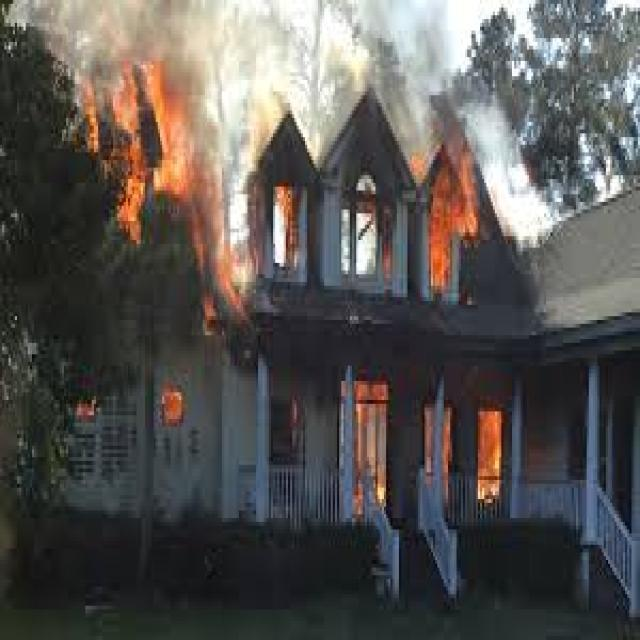Fire: (82, 56, 188, 248), (404, 146, 480, 296), (260, 119, 312, 254), (338, 384, 389, 516), (481, 402, 504, 500), (152, 380, 188, 424)
Smoke: (37, 0, 450, 50), (356, 61, 439, 140)
